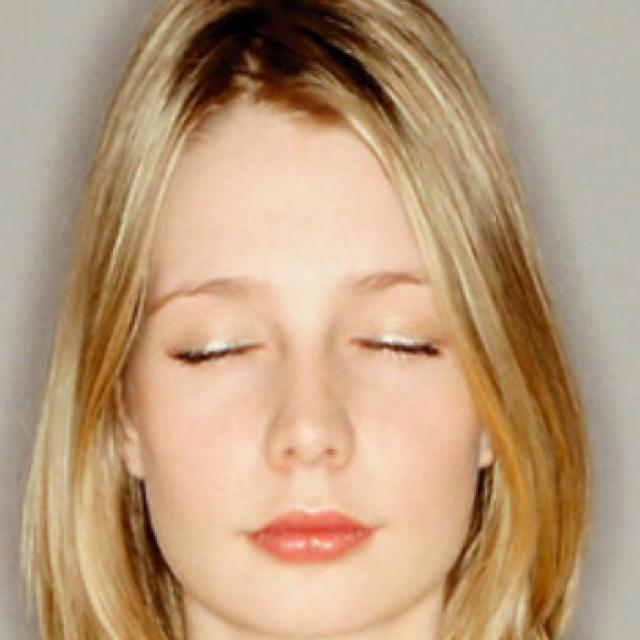close: (131, 262, 296, 394), (325, 254, 471, 379)
